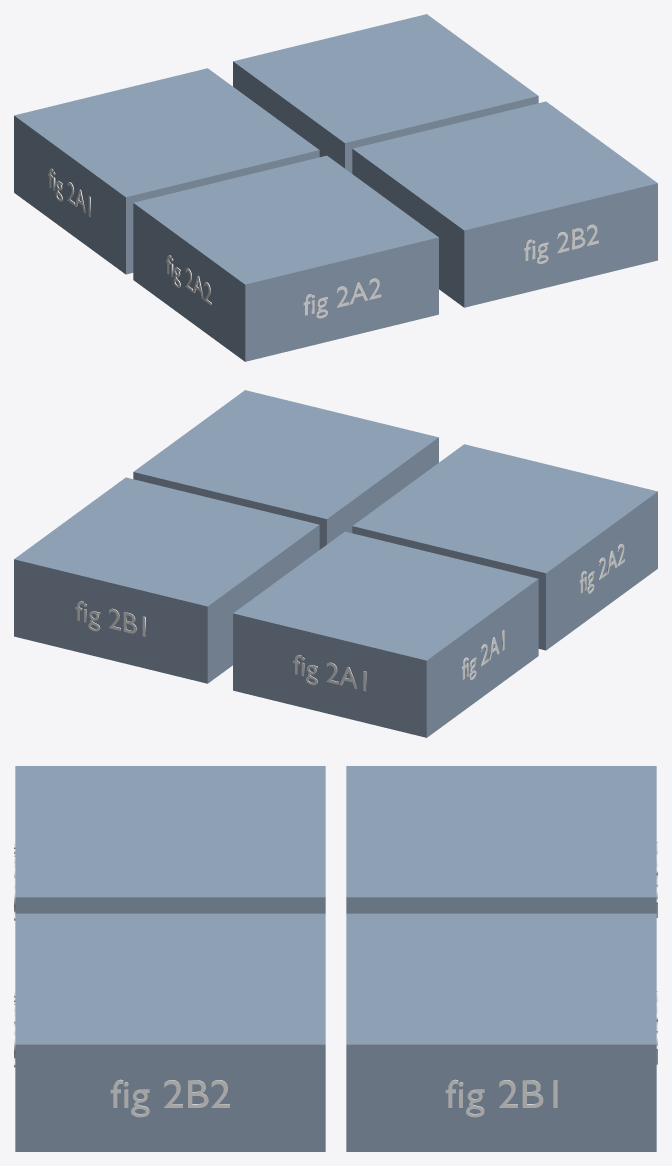
Rendered from block_7.gltf.
3 views of the same model, one above another, from view 1: azimuth 30°, elevation 25°; view 2: azimuth 150°, elevation 25°; view 3: azimuth 270°, elevation 25° (orthographic). The views are drawn at different scales.
Visible parts, largest first — view 1: r7_25x4_2, r7_25x4_4, r7_25x4_1, r7_25x4_3; view 2: r7_25x4_1, r7_25x4_3, r7_25x4_2, r7_25x4_4; view 3: r7_25x4_4, r7_25x4_3, r7_25x4_2, r7_25x4_1.
Boxes of the visible parts, box(x1,y1,x2,y2) form: r7_25x4_2: box(133, 155, 438, 361); r7_25x4_4: box(352, 101, 657, 307); r7_25x4_1: box(14, 68, 319, 274); r7_25x4_3: box(233, 14, 538, 173); r7_25x4_1: box(233, 531, 538, 737); r7_25x4_3: box(14, 477, 319, 683); r7_25x4_2: box(352, 444, 657, 650); r7_25x4_4: box(133, 390, 438, 549); r7_25x4_4: box(14, 913, 325, 1151); r7_25x4_3: box(346, 913, 657, 1151); r7_25x4_2: box(14, 766, 325, 920); r7_25x4_1: box(346, 766, 657, 917).
Bounding box in the file's own units: 0.1123 × 0.0202 × 0.1089.
